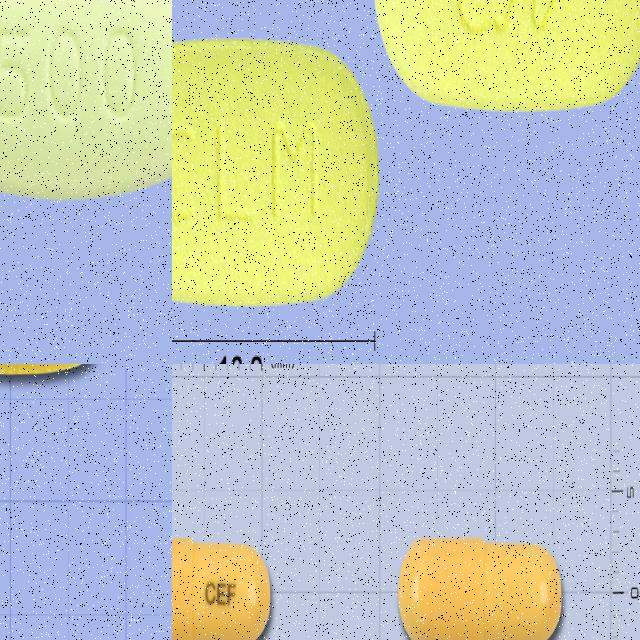Cefixime Cap- Samsung: (394, 529, 566, 640), (172, 531, 276, 640)
Clamicin: (172, 36, 381, 312), (371, 0, 640, 117)
Clarione: (0, 0, 172, 212)
